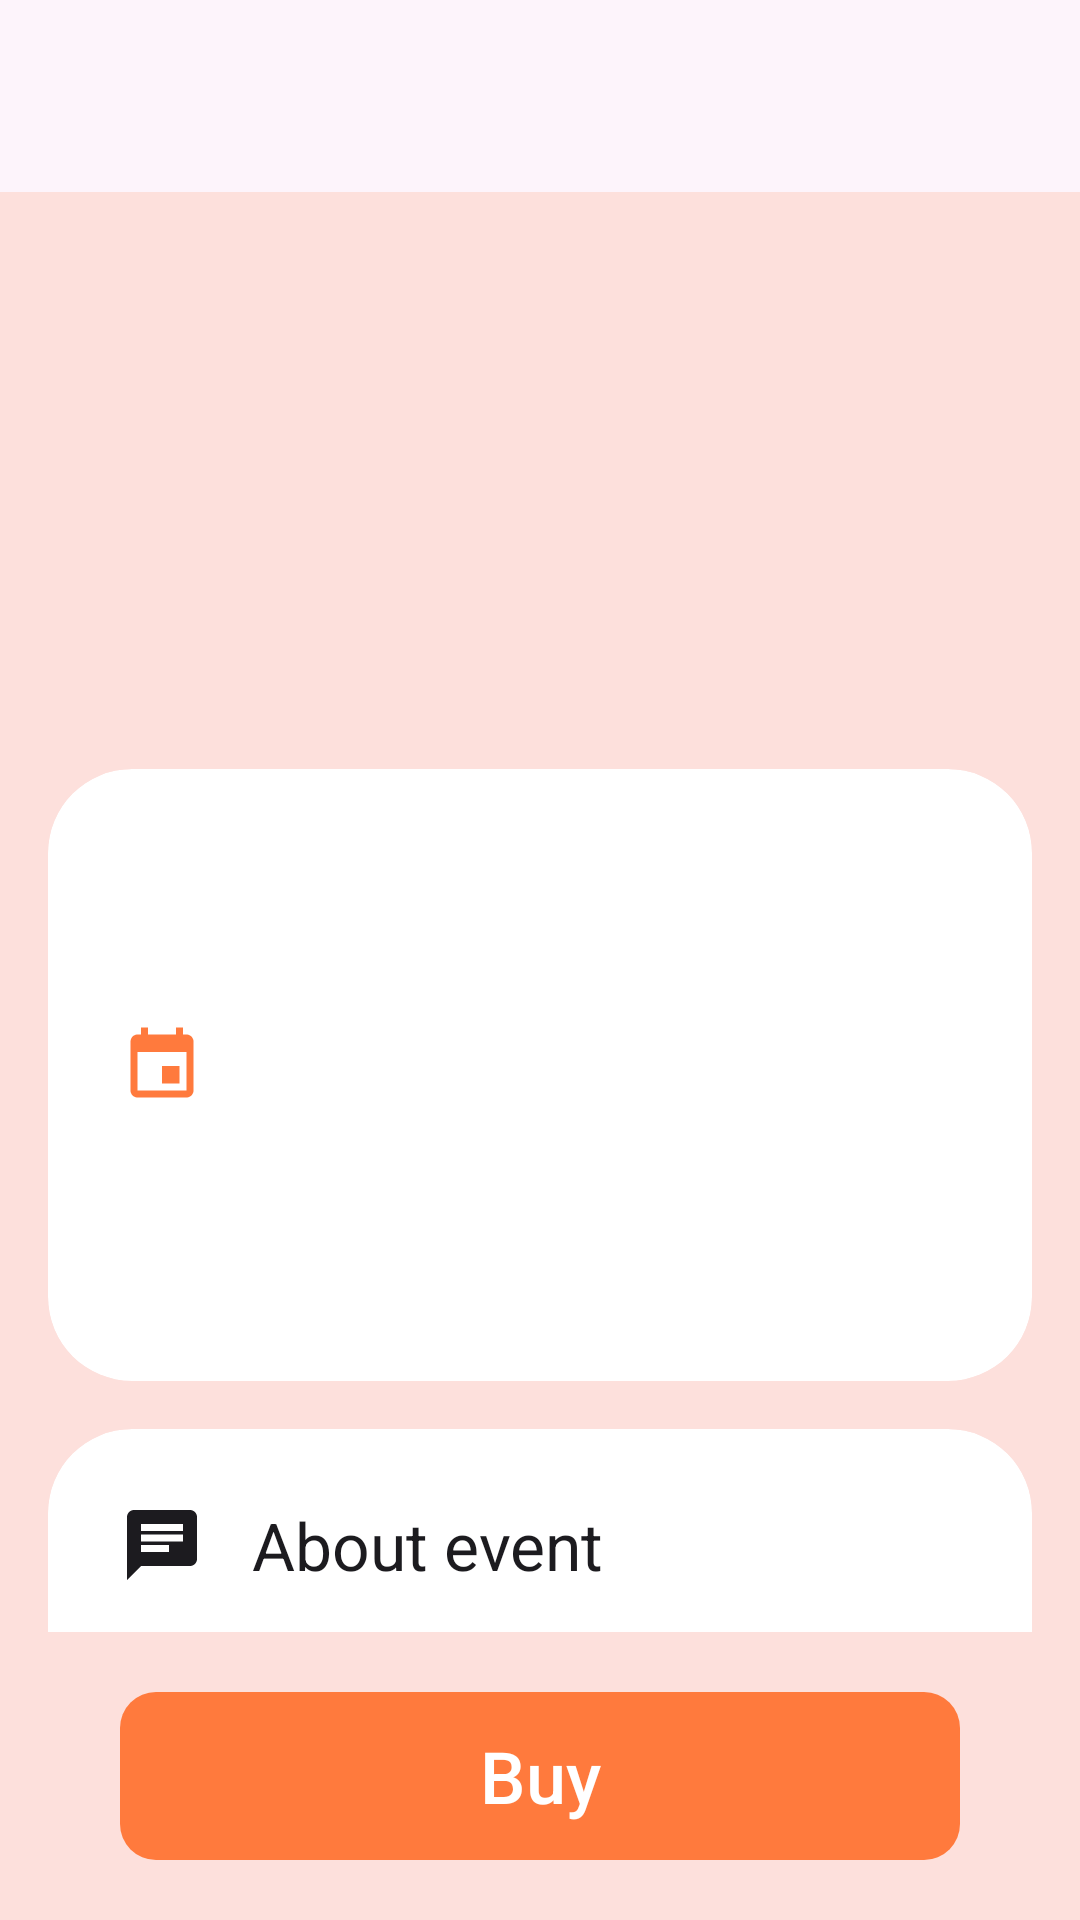

Icon click points for this 1080x1920 phone screenshot, format (x,y):
calendar: (162,1062)
